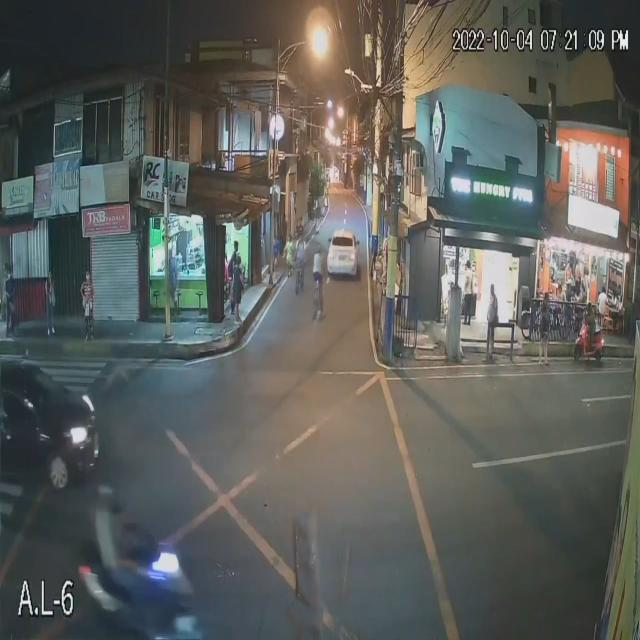Full-Faced: (584, 299, 596, 318)
Half-Faced: (91, 477, 123, 518)
